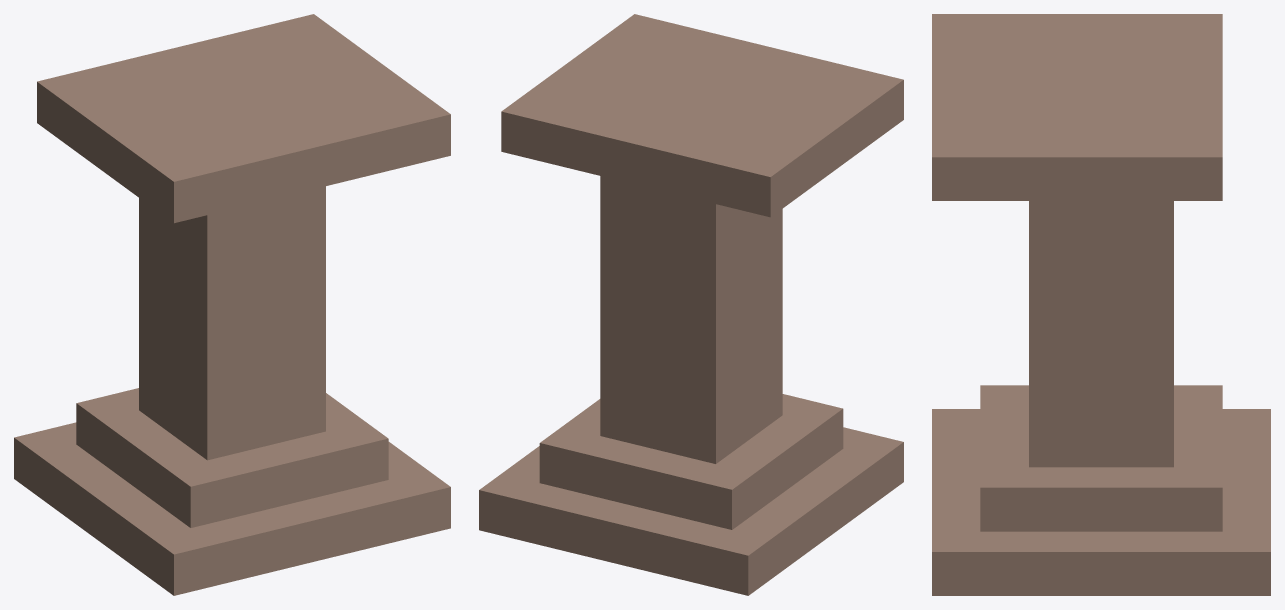
Rendered from altar_a_a.obj.
3 renders of one model, left to right at view 1: azimuth 30°, elevation 25°; view 2: azimuth 150°, elevation 25°; view 3: azimuth 270°, elevation 25°, orthographic. The views are drawn at different scales.
Size of the model in its own units: 0.7 by 1 by 0.7.
1 material, 1 textured.
